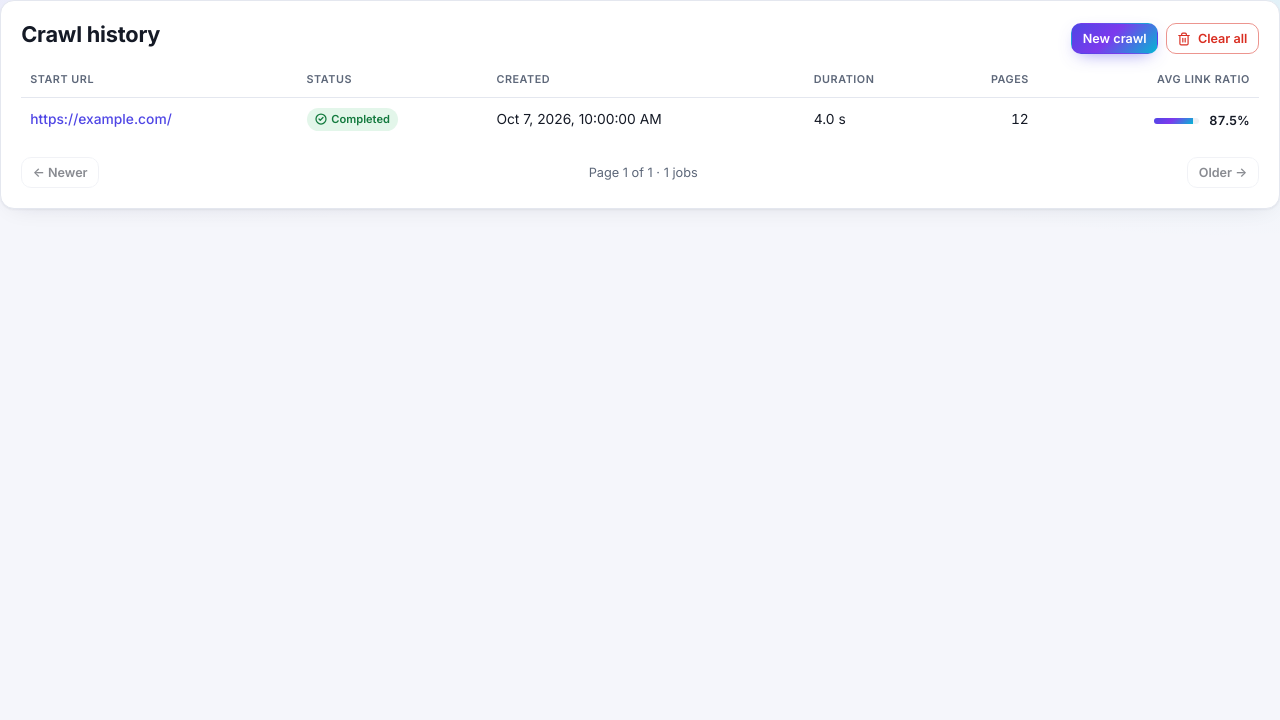
Test: HistoryPage › asks for confirmation in a dialog, then clears all jobs
The image size is (1280, 720).
Expected: the link "https://example.com/" is shown, [30,111,172,127]
Click the button "Clear all".
click(1212, 39)  # box [1166,23,1259,54]
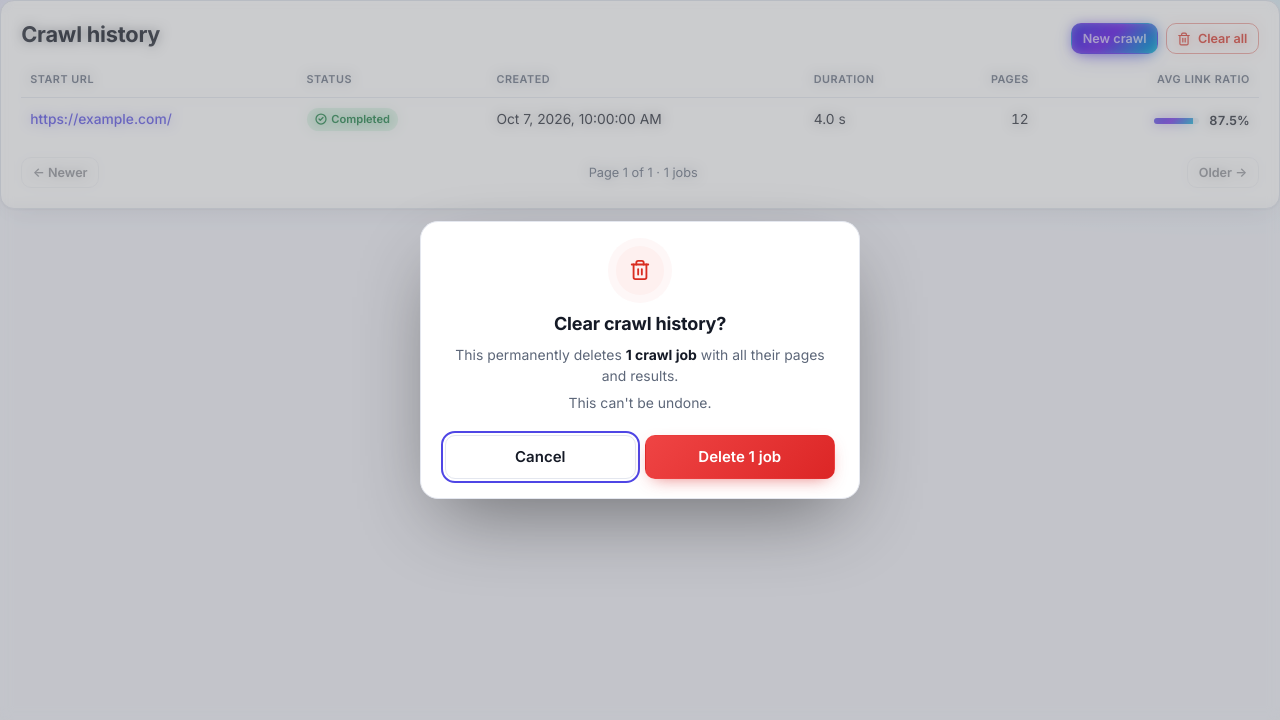
Now the dialog "Clear crawl history?" shows "This permanently deletes 1 crawl job", box [420,221,860,499]
Click the button "Delete 1 job".
click(740, 457)  # box [644,435,835,479]
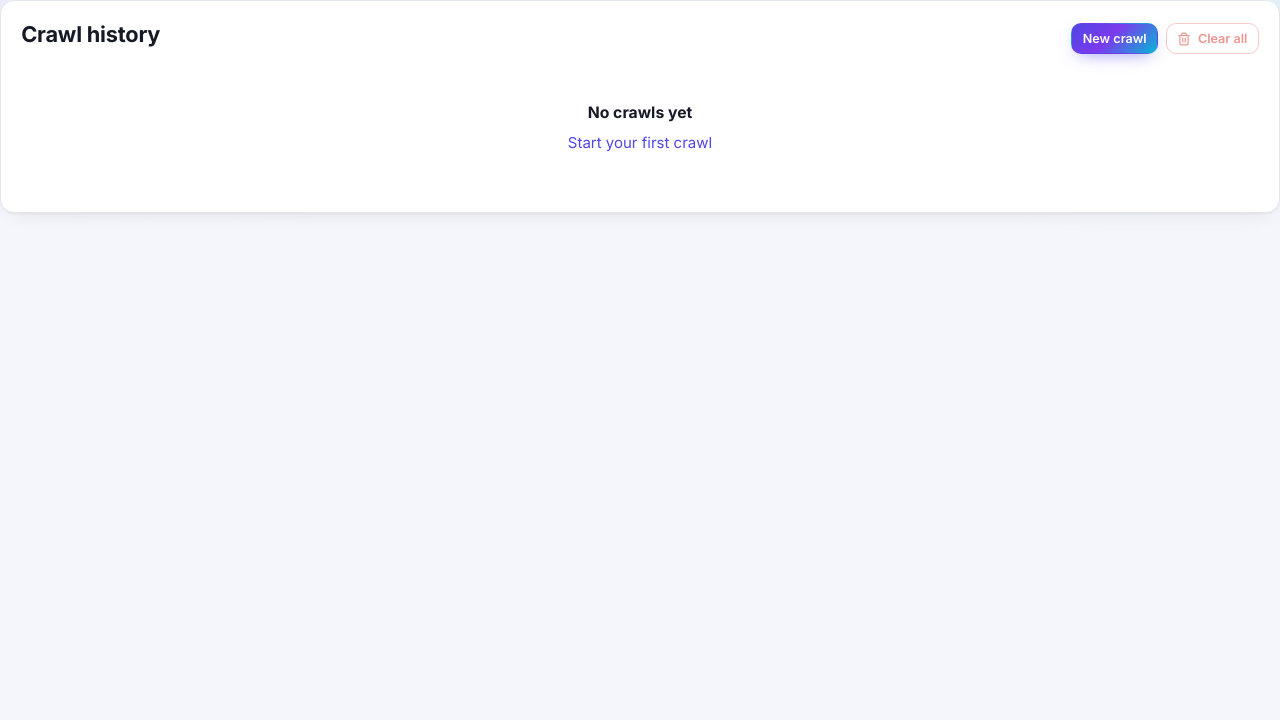
Now the text "No crawls yet" is shown, box [588,103,692,122]
Now the dialog is gone
